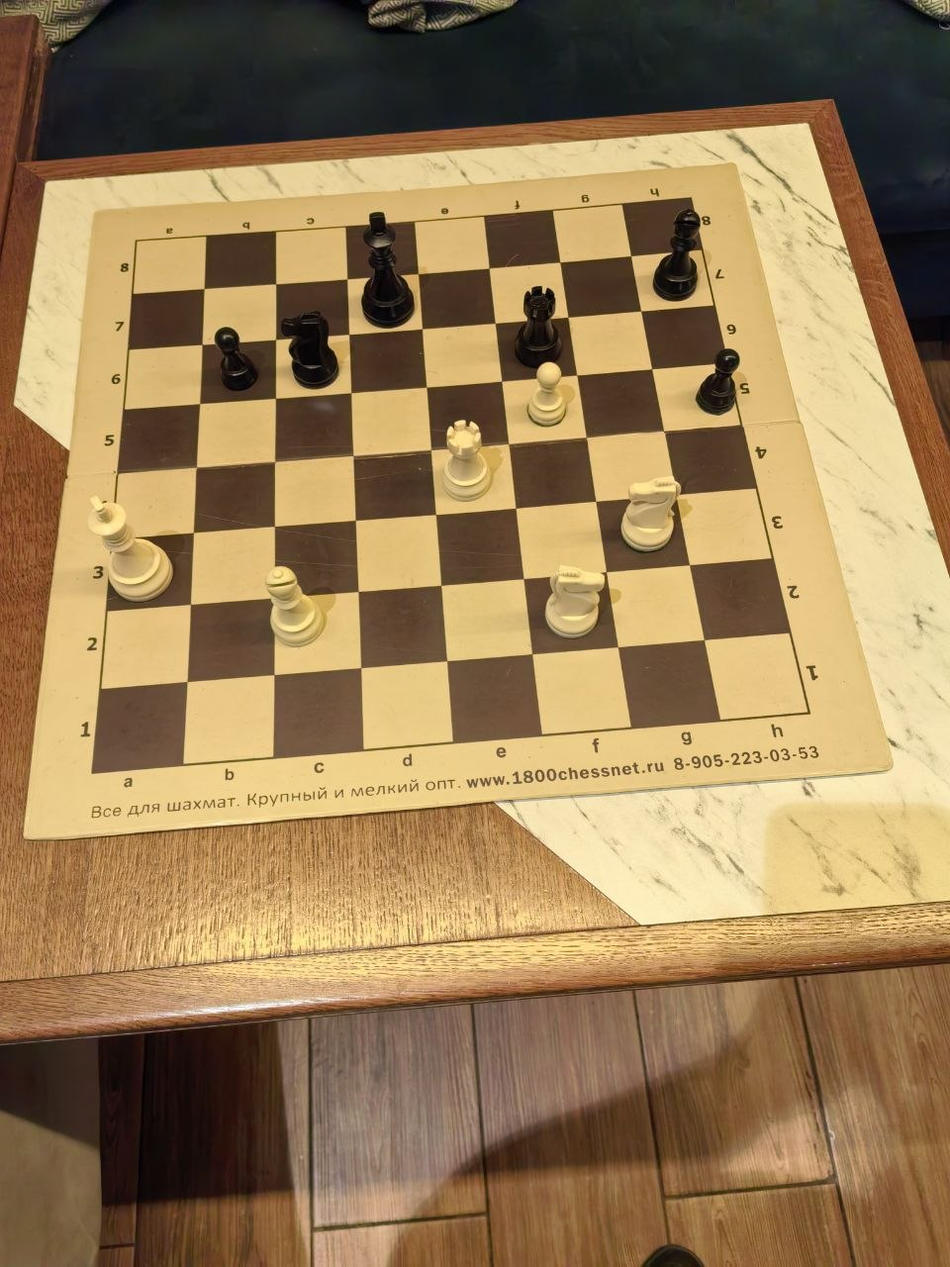black-bishop: (0, 792, 119, 950)
black-knight: (475, 634, 594, 792)
black-pawn: (238, 950, 356, 1109)
black-queen: (712, 792, 831, 950), (594, 950, 712, 1109)
black-rook: (594, 475, 712, 634)
white-bishop: (356, 158, 475, 317)
white-knight: (594, 317, 712, 475)
white-pawn: (831, 158, 950, 317)
white-queen: (238, 317, 356, 475)
white-rook: (831, 475, 950, 634), (119, 317, 238, 475)
